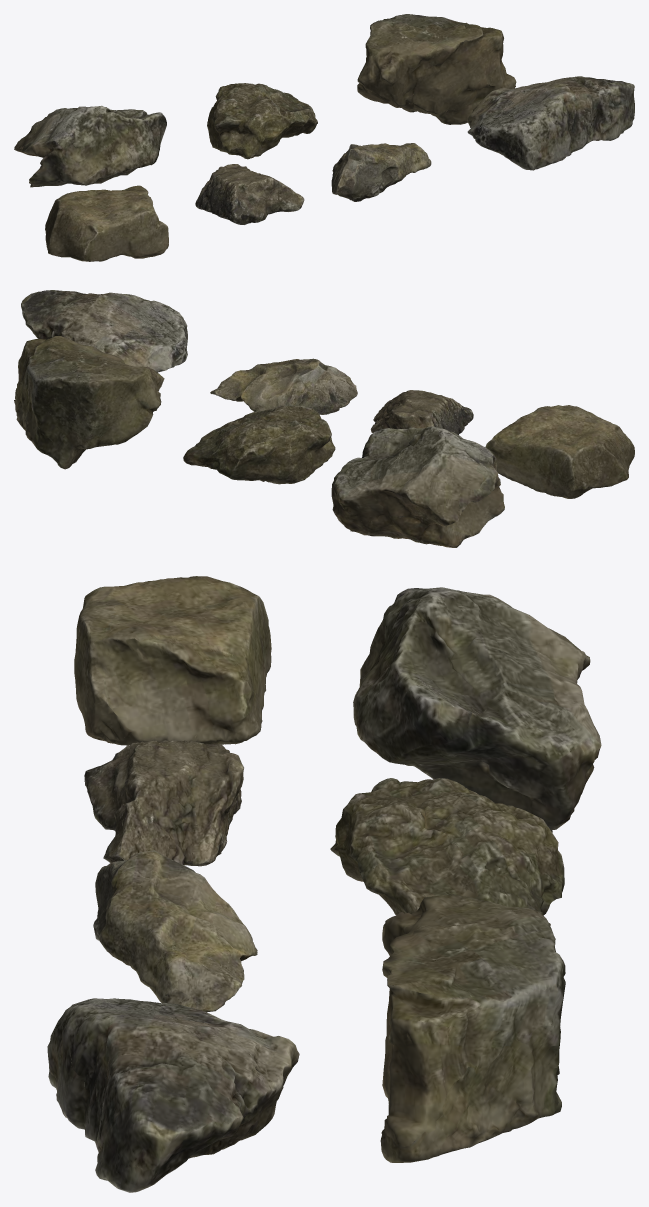
File: mossy-rocks.glb
3 views of the same model, one above another, from view 1: azimuth 30°, elevation 25°; view 2: azimuth 150°, elevation 25°; view 3: azimuth 270°, elevation 25° (orthographic). The views are drawn at different scales.
Parts seen in each view (by area): view 1: rock_moss_set_02_rock13, rock_moss_set_02_rock10, rock_moss_set_02_rock11, rock_moss_set_02_rock07, rock_moss_set_02_rock12, rock_moss_set_02_rock08, rock_moss_set_02_rock09; view 2: rock_moss_set_02_rock11, rock_moss_set_02_rock13, rock_moss_set_02_rock07, rock_moss_set_02_rock10, rock_moss_set_02_rock12, rock_moss_set_02_rock09, rock_moss_set_02_rock08; view 3: rock_moss_set_02_rock13, rock_moss_set_02_rock11, rock_moss_set_02_rock10, rock_moss_set_02_rock07, rock_moss_set_02_rock12, rock_moss_set_02_rock09, rock_moss_set_02_rock08.
Boxes of the visible parts, x1,y1,x2,y2 form: rock_moss_set_02_rock13: (357, 14, 516, 124); rock_moss_set_02_rock10: (467, 76, 634, 170); rock_moss_set_02_rock11: (14, 105, 166, 187); rock_moss_set_02_rock07: (45, 185, 168, 261); rock_moss_set_02_rock12: (207, 83, 317, 159); rock_moss_set_02_rock08: (195, 164, 304, 224); rock_moss_set_02_rock09: (331, 143, 431, 201); rock_moss_set_02_rock11: (331, 426, 504, 547); rock_moss_set_02_rock13: (14, 336, 164, 469); rock_moss_set_02_rock07: (485, 405, 634, 498); rock_moss_set_02_rock10: (21, 290, 187, 372); rock_moss_set_02_rock12: (183, 405, 335, 484); rock_moss_set_02_rock09: (210, 358, 357, 414); rock_moss_set_02_rock08: (370, 390, 473, 434); rock_moss_set_02_rock13: (380, 894, 565, 1162); rock_moss_set_02_rock11: (353, 587, 601, 832); rock_moss_set_02_rock10: (47, 998, 299, 1192); rock_moss_set_02_rock07: (74, 576, 271, 745); rock_moss_set_02_rock12: (330, 778, 564, 925); rock_moss_set_02_rock09: (93, 850, 257, 1012); rock_moss_set_02_rock08: (84, 740, 243, 866).
Size of the model in its own units: 8.28 by 1.37 by 3.41.
Materials: 1 (1 with a texture image).
